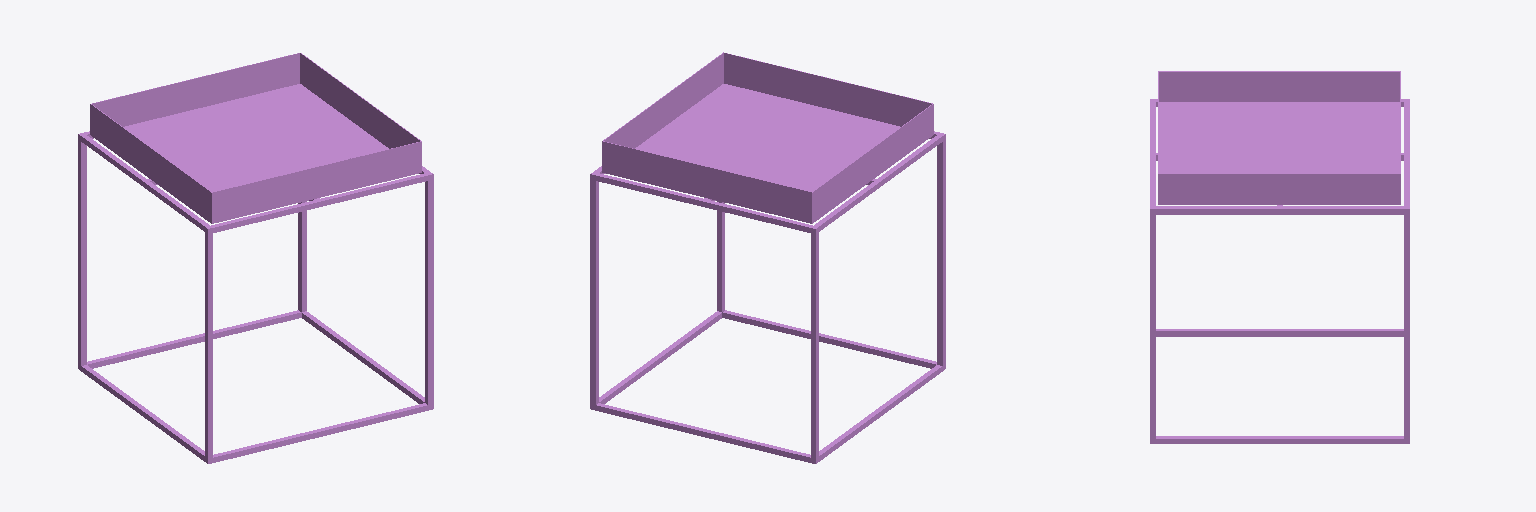
The model's file is Hay_Tray_Small_Square.obj.
3 renders of one model, left to right at view 1: azimuth 30°, elevation 25°; view 2: azimuth 150°, elevation 25°; view 3: azimuth 270°, elevation 25°, orthographic.
Parts seen in each view (by area): view 1: Hay_Tray_Small_Square; view 2: Hay_Tray_Small_Square; view 3: Hay_Tray_Small_Square.
Part boxes in pixels (x1,y1,x2,y2): Hay_Tray_Small_Square: (78, 53, 433, 463); Hay_Tray_Small_Square: (590, 52, 945, 463); Hay_Tray_Small_Square: (1150, 71, 1409, 443).
Size of the model in its own units: 30.07 by 34.02 by 30.01.